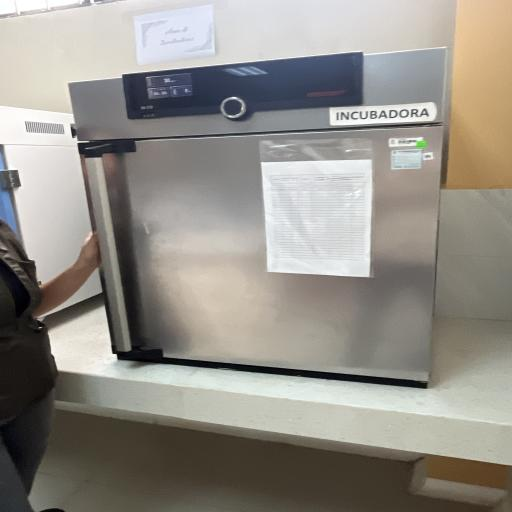Incubadora: (59, 36, 470, 399)
